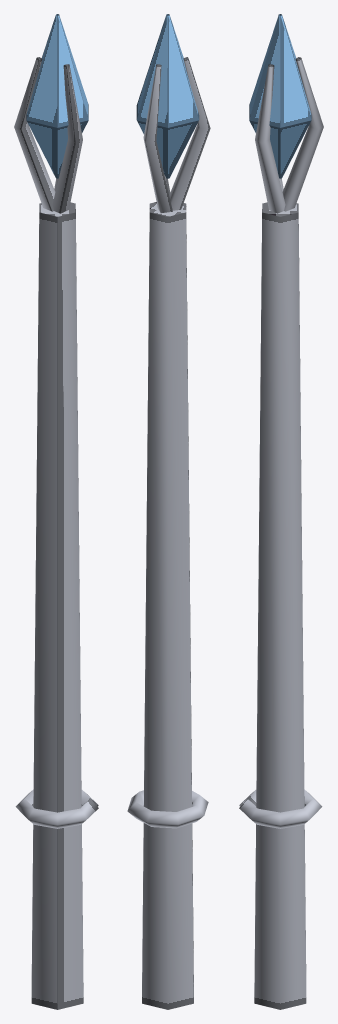
Rendered from crystal_wand.glb.
The picture shows the model from 3 angles, left to right: view 1: azimuth 90°, elevation 25°; view 2: azimuth 150°, elevation 25°; view 3: azimuth 270°, elevation 25°; orthographic projection.
Visible parts, largest first — view 1: crystal_wand; view 2: crystal_wand; view 3: crystal_wand.
Part boxes in pixels (x1=…): crystal_wand: x1=14, y1=14, x2=98, y2=1009; crystal_wand: x1=127, y1=14, x2=210, y2=1009; crystal_wand: x1=239, y1=14, x2=323, y2=1009.
Size of the model in its own units: 0.028 by 0.361 by 0.0283.
1 material, 1 textured.
